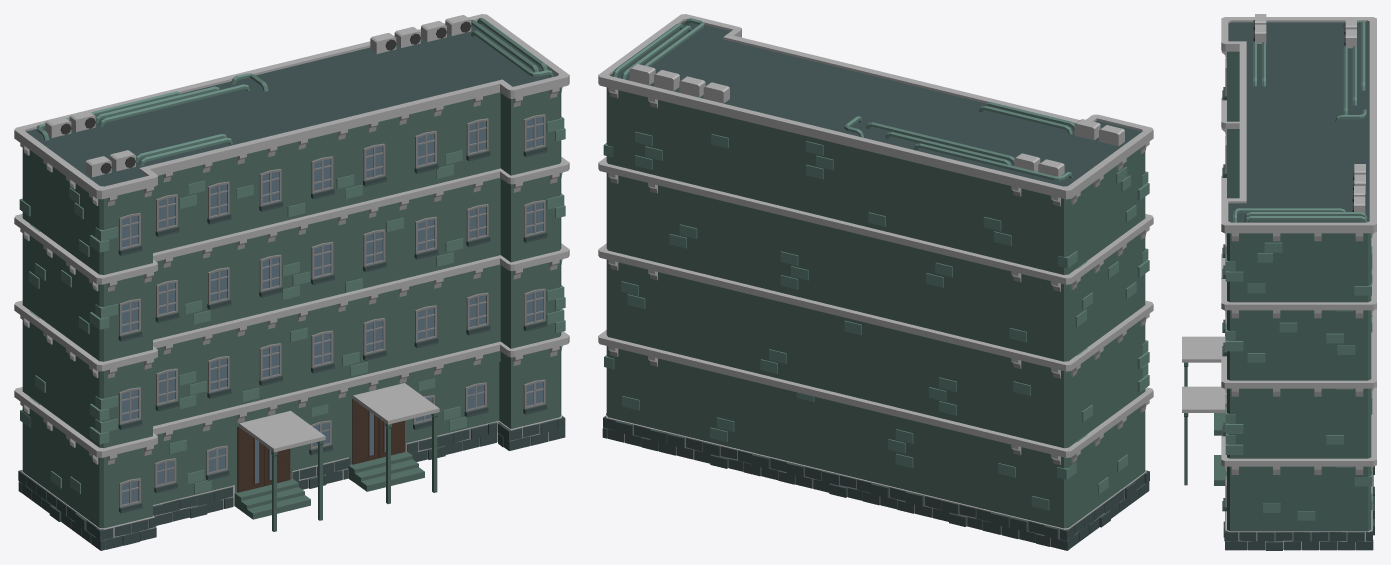
File: 4Story_Wide_2Doors_Mat.glb
3 views of the same model, side by side, from view 1: azimuth 30°, elevation 25°; view 2: azimuth 150°, elevation 25°; view 3: azimuth 270°, elevation 25° (orthographic). The views are drawn at different scales.
Parts seen in each view (by area): view 1: 4Story_Wide_2Doors_Mat; view 2: 4Story_Wide_2Doors_Mat; view 3: 4Story_Wide_2Doors_Mat.
Part boxes in pixels (left/top/right/bottom): 4Story_Wide_2Doors_Mat: left=14, top=14, right=569, bottom=550; 4Story_Wide_2Doors_Mat: left=598, top=14, right=1153, bottom=550; 4Story_Wide_2Doors_Mat: left=1182, top=14, right=1376, bottom=550.
Bounding box in the file's own units: 6.83 × 5.15 × 2.7.
